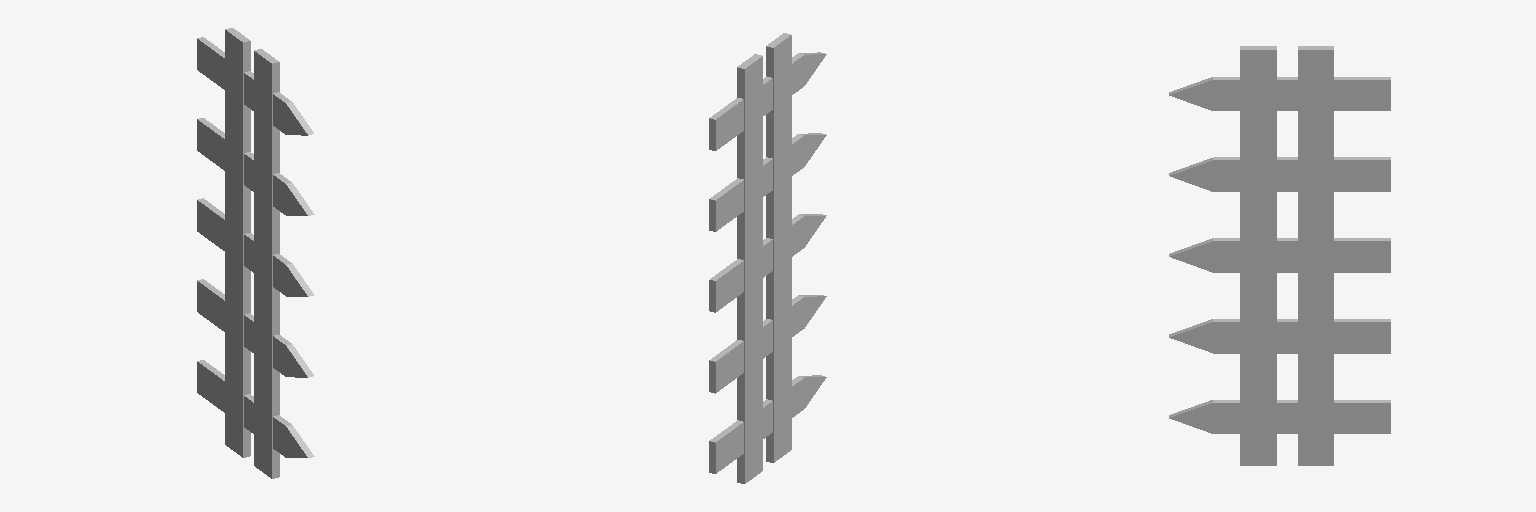
The model's file is cerca.obj.
3 renders of one model, left to right at view 1: azimuth 30°, elevation 25°; view 2: azimuth 150°, elevation 25°; view 3: azimuth 270°, elevation 25°, orthographic.
Visible parts, largest first — view 1: Plane, Cube; view 2: Plane, Cube; view 3: Plane, Cube.
Boxes of the visible parts, x1,y1,x2,y2 form: Plane: [225, 28, 279, 478]; Cube: [197, 37, 314, 457]; Plane: [737, 33, 791, 483]; Cube: [709, 52, 826, 473]; Plane: [1240, 46, 1333, 465]; Cube: [1169, 77, 1390, 433].
Size of the model in its own units: 0.1 by 5.15 by 2.5.